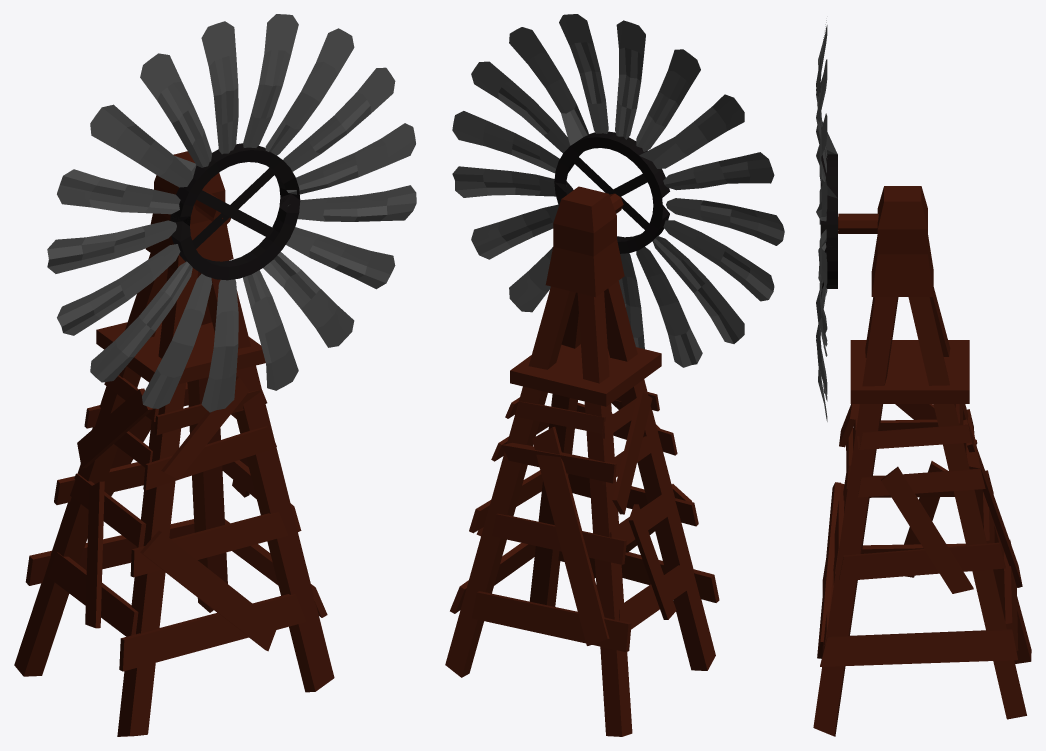
The model's file is mill.obj.
3 views of the same model, side by side, from view 1: azimuth 30°, elevation 25°; view 2: azimuth 150°, elevation 25°; view 3: azimuth 270°, elevation 25° (orthographic). The views are drawn at different scales.
Parts seen in each view (by area): view 1: windmill_windmill_m_color6.001, windmill_windmill_m_color9.001, windmill_windmill_m_color33; view 2: windmill_windmill_m_color6.001, windmill_windmill_m_color9.001, windmill_windmill_m_color33; view 3: windmill_windmill_m_color6.001, windmill_windmill_m_color9.001, windmill_windmill_m_color33.
Part boxes in pixels (bbox=[...]): windmill_windmill_m_color6.001: bbox=[14, 151, 334, 736]; windmill_windmill_m_color9.001: bbox=[47, 14, 416, 412]; windmill_windmill_m_color33: bbox=[170, 143, 300, 280]; windmill_windmill_m_color6.001: bbox=[445, 186, 719, 736]; windmill_windmill_m_color9.001: bbox=[452, 14, 784, 367]; windmill_windmill_m_color33: bbox=[554, 131, 669, 253]; windmill_windmill_m_color6.001: bbox=[813, 186, 1031, 736]; windmill_windmill_m_color9.001: bbox=[816, 20, 837, 421]; windmill_windmill_m_color33: bbox=[820, 154, 837, 288].
Bounding box in the file's own units: 109 × 199 × 58.13.
